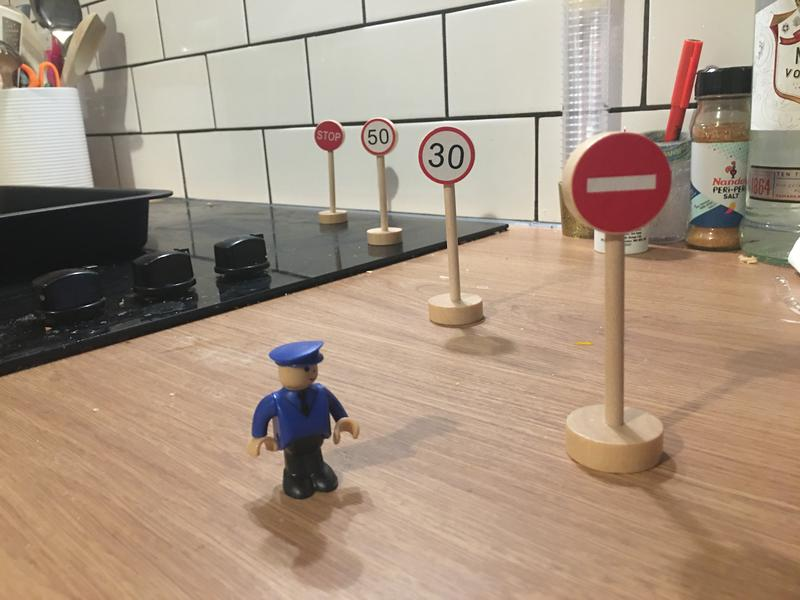Traffic_Sign_30: (419, 127, 475, 185)
Traffic_Sign_50: (362, 119, 395, 153)
Traffic_Sign_No_Entry: (572, 135, 667, 229)
Traffic_Sign_Stop: (314, 119, 345, 150)
person: (246, 340, 362, 507)
